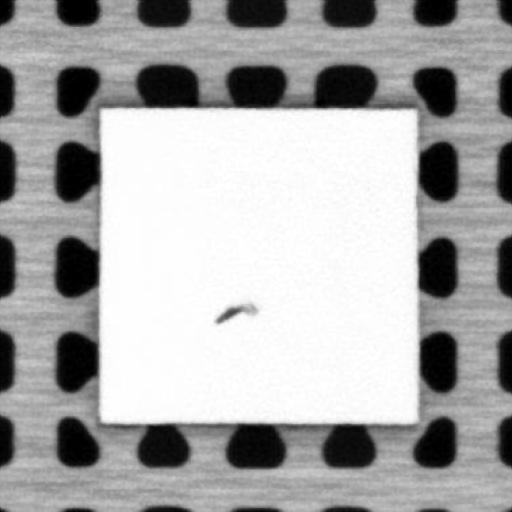DIE_INK: (210, 300, 259, 325)
